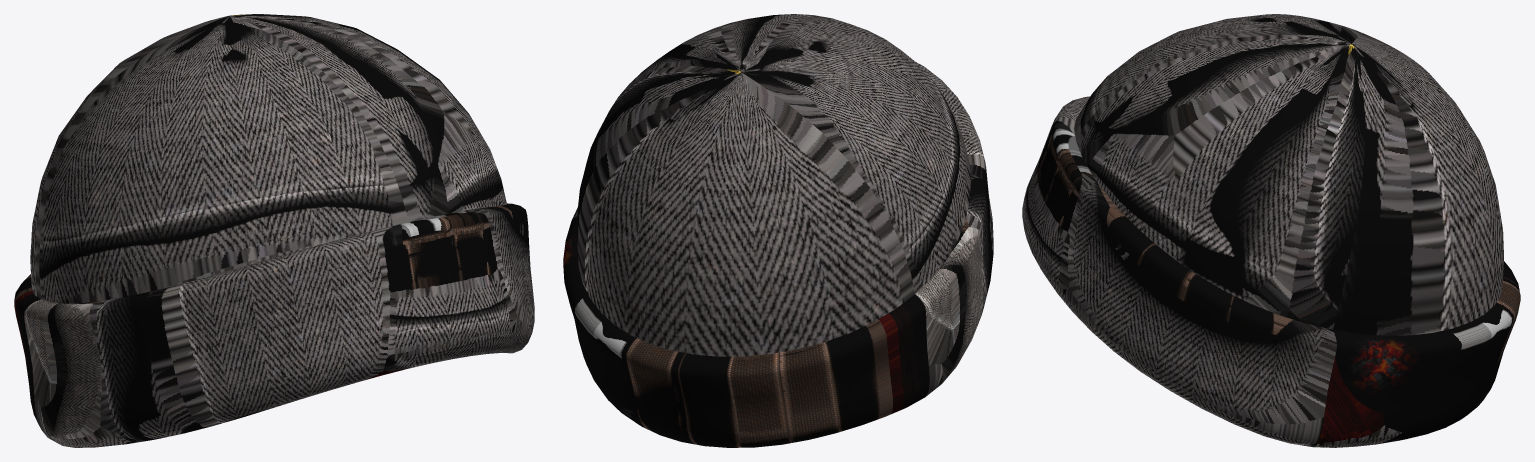
File: hat.fbx
3 views of the same model, side by side, from view 1: azimuth 30°, elevation 25°; view 2: azimuth 150°, elevation 25°; view 3: azimuth 270°, elevation 25° (orthographic). The views are drawn at different scales.
Visible parts, largest first — view 1: hat; view 2: hat; view 3: hat.
Boxes of the visible parts, box(x1,y1,x2,y2) form: hat: box(14, 14, 534, 447); hat: box(563, 14, 993, 447); hat: box(1022, 14, 1520, 447).
Bounding box in the file's own units: 207 × 182 × 229.
